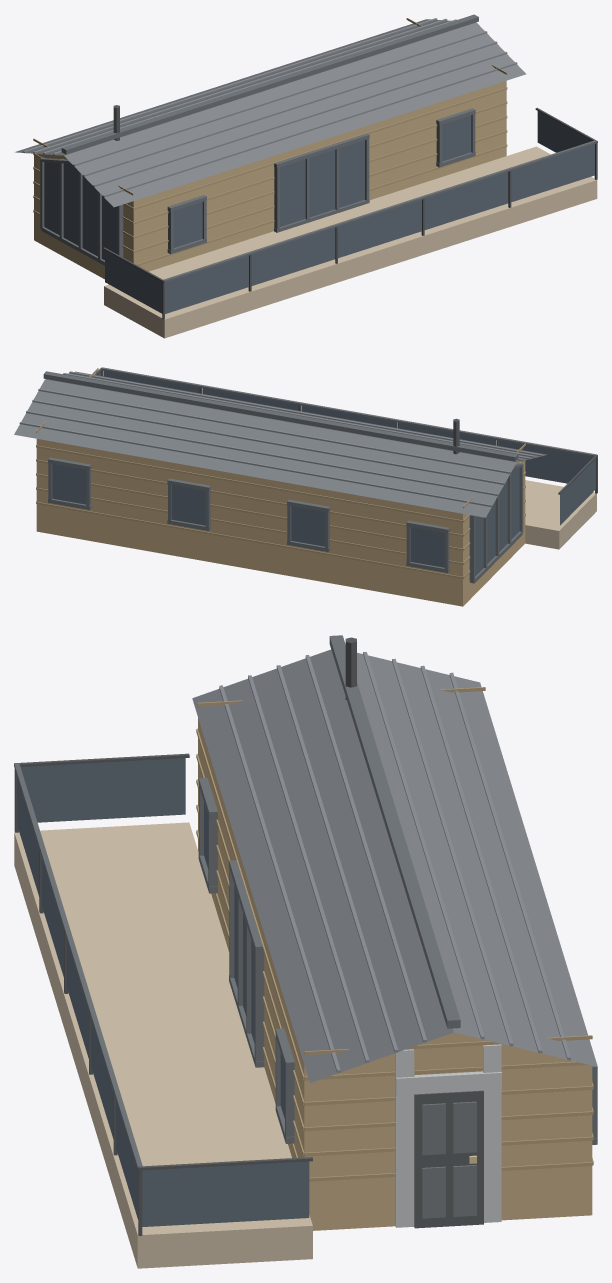
The picture shows the model from 3 angles, top to bottom: view 1: azimuth 30°, elevation 25°; view 2: azimuth 150°, elevation 25°; view 3: azimuth 270°, elevation 25°; orthographic projection. The views are drawn at different scales.
Visible parts, largest first — view 1: slate, door_wood, larch, slate_dk, slate_lt, window_glass_013, door_wood_p, window_glass_002, window_glass_004, window_glass_003, window_glass_005, window_glass_001 (+8 smaller); view 2: door_wood, slate, slate_dk, slate_lt, door_wood_p, larch, window_glass_013, window_glass_001, window_glass_015, window_glass_014, window_glass_017, window_glass_016 (+6 smaller); view 3: slate, larch, door_wood, slate_dk, slate_lt, window_glass_007, window_glass_006, door_wood_p, stone_band, door_dark_p, door_dark, pipe (+5 smaller).
Part boxes in pixels (<box>): slate: <box>15,19,526,207</box>; door_wood: <box>34,80,506,279</box>; larch: <box>104,146,597,338</box>; slate_dk: <box>40,14,597,282</box>; slate_lt: <box>23,18,517,197</box>; window_glass_013: <box>44,162,117,260</box>; door_wood_p: <box>33,18,507,265</box>; window_glass_002: <box>251,228,335,285</box>; window_glass_004: <box>424,172,508,229</box>; window_glass_003: <box>338,199,421,258</box>; window_glass_005: <box>511,144,594,202</box>; window_glass_001: <box>165,255,248,313</box>; door_wood: <box>36,439,525,606</box>; slate: <box>14,371,547,517</box>; slate_dk: <box>43,367,596,583</box>; slate_lt: <box>19,371,541,506</box>; door_wood_p: <box>36,368,525,578</box>; larch: <box>525,480,596,549</box>; window_glass_013: <box>475,468,519,575</box>; window_glass_001: <box>499,440,593,483</box>; window_glass_015: <box>171,485,205,525</box>; window_glass_014: <box>52,464,86,504</box>; window_glass_017: <box>410,527,444,567</box>; window_glass_016: <box>291,506,324,546</box>; slate: <box>192,649,597,1082</box>; larch: <box>14,822,312,1268</box>; door_wood: <box>198,718,592,1230</box>; slate_dk: <box>14,635,597,1168</box>; slate_lt: <box>219,652,570,1072</box>; window_glass_007: <box>142,1161,309,1226</box>; window_glass_006: <box>20,758,185,822</box>; door_wood_p: <box>196,687,593,1181</box>; stone_band: <box>395,1044,501,1227</box>; door_dark_p: <box>422,1101,476,1218</box>; door_dark: <box>414,1090,483,1228</box>; pipe: <box>14,637,356,1235</box>.
Bounding box in the file's own units: 13.52 × 3.99 × 7.94.
